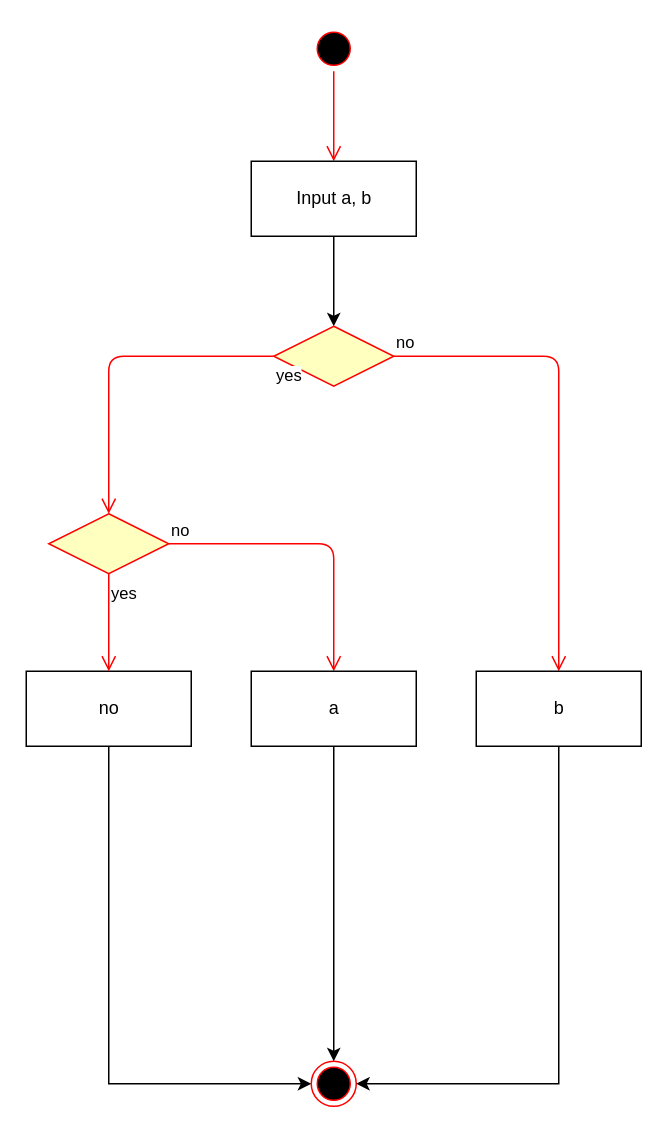
Some shapes in this 668 by 1133 pixel diagram are drawn without their labels. Each missing label, with the box of its shape:
a <= b: (272, 325, 394, 386)
a = b: (47, 512, 169, 574)
